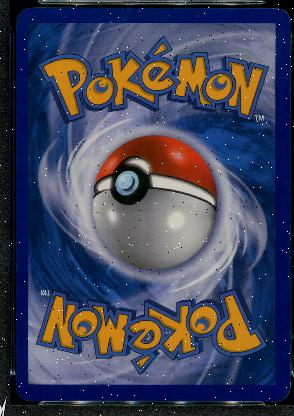Card: (12, 5, 292, 405)
Corner Wear: (14, 378, 35, 402), (266, 382, 290, 402)
Edge Wear: (15, 264, 17, 292), (15, 306, 16, 312)
Scratch: (74, 386, 85, 394), (282, 352, 287, 356)
